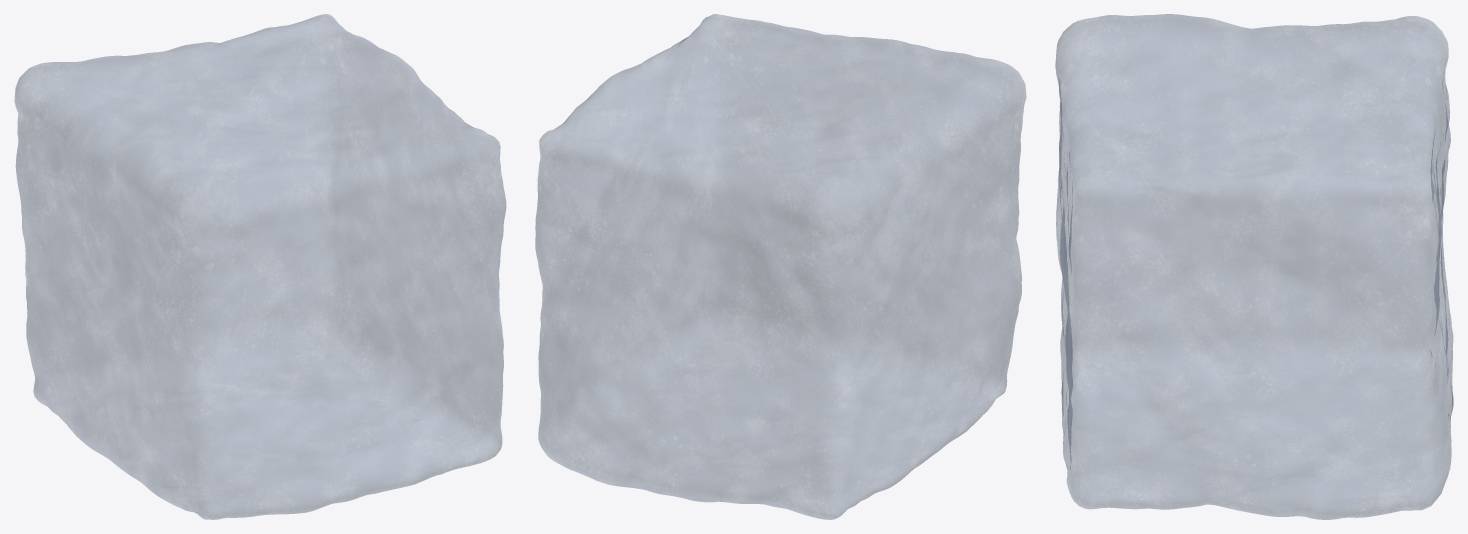
File: ice_cube.glb
3 views of the same model, side by side, from view 1: azimuth 30°, elevation 25°; view 2: azimuth 150°, elevation 25°; view 3: azimuth 270°, elevation 25° (orthographic). The views are drawn at different scales.
Visible parts, largest first — view 1: Cube; view 2: Cube; view 3: Cube.
Boxes of the visible parts, box(x1,y1,x2,y2) form: Cube: box(14, 14, 506, 519); Cube: box(535, 14, 1026, 519); Cube: box(1055, 14, 1453, 519).
Bounding box in the file's own units: 210 × 214 × 211.
1 material, 1 textured.
